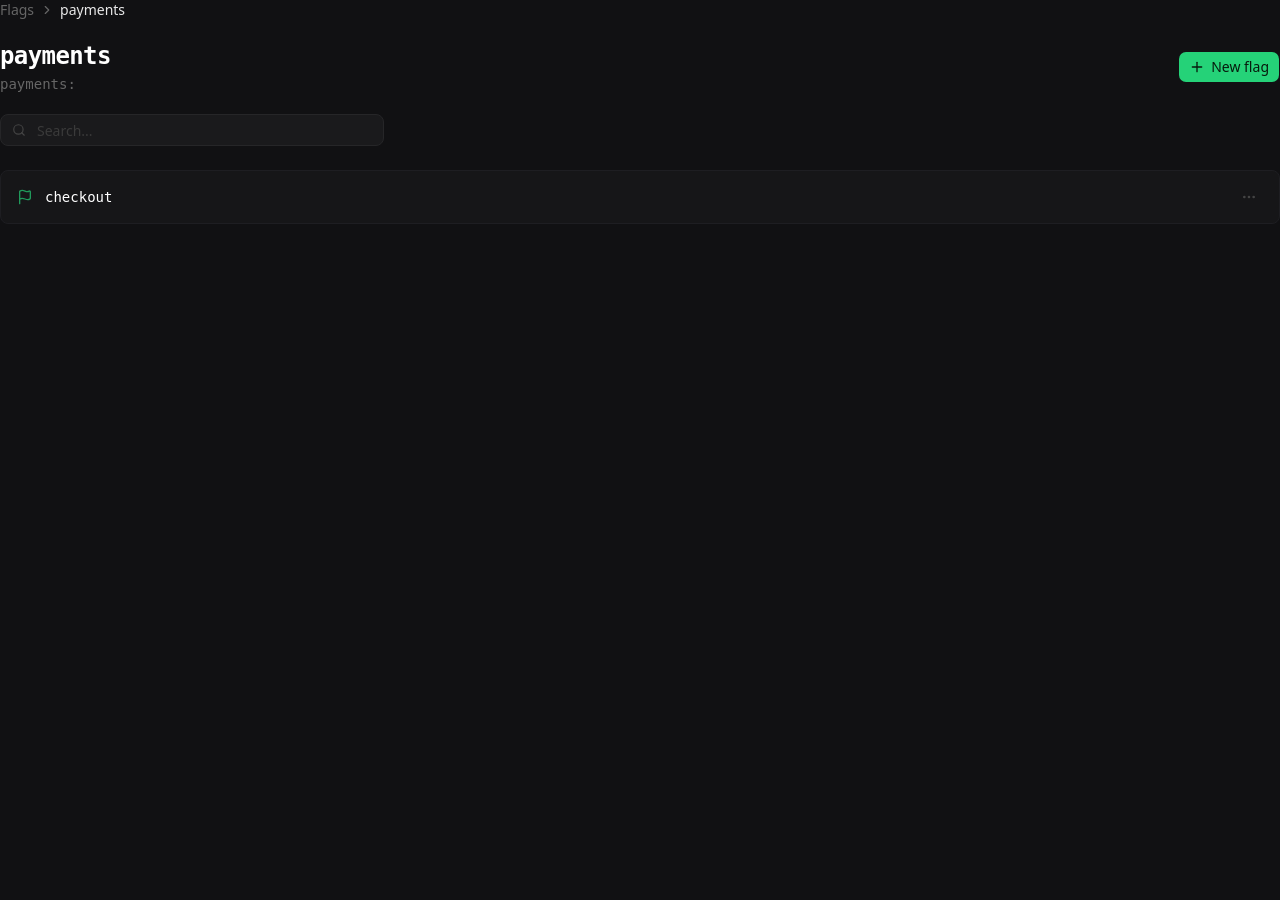
Test: flags page delete flow › shows the empty-folder state after deleting the last flag under a prefix
Step 1. Click the button named "Actions for checkout" → [1249, 197], box [1235,183,1263,211]
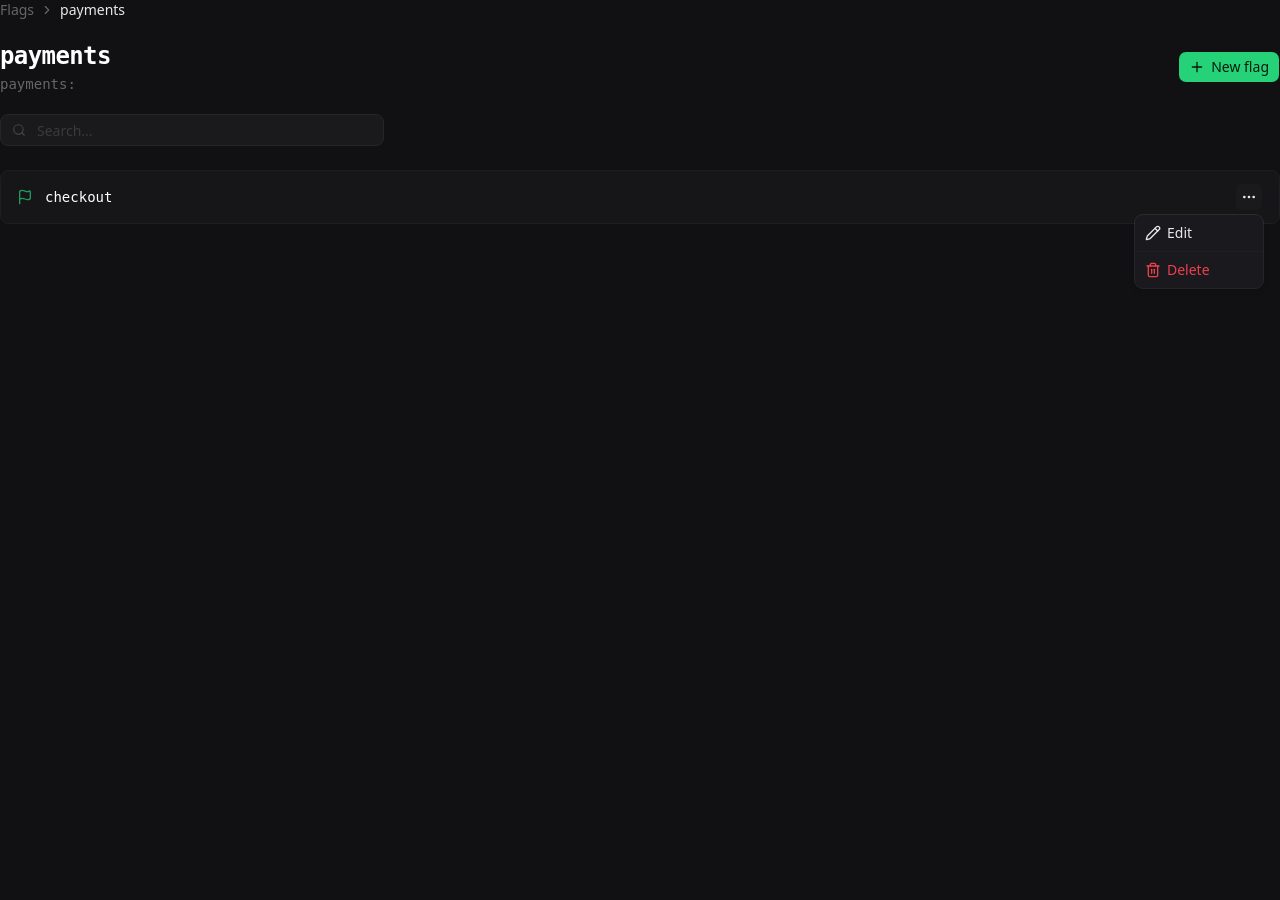
Step 2. Click the menu item "Delete" → [1177, 270], box [1145,260,1210,279]
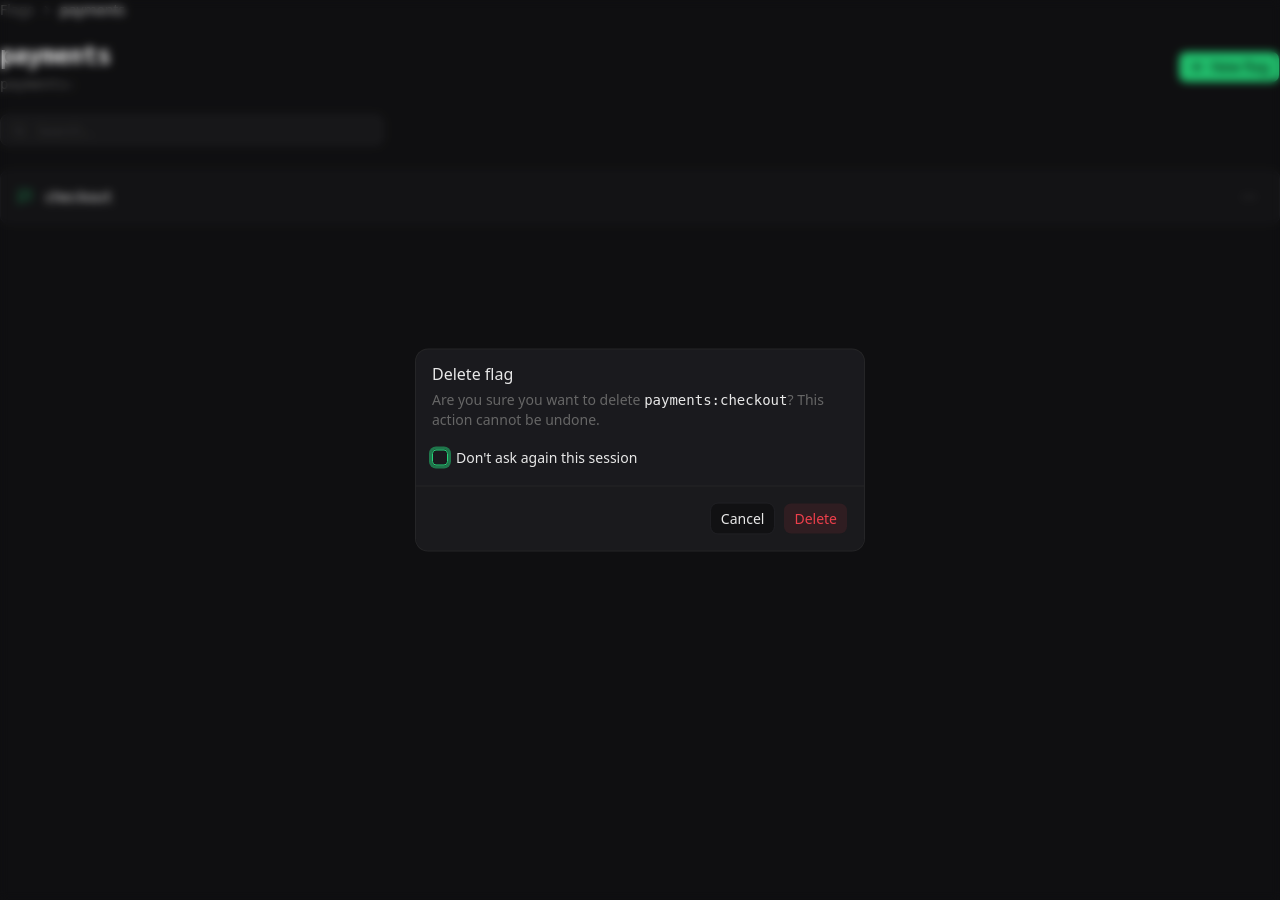
Step 3. Click the button with aria-label "Confirm deletion of payments:checkout" → [816, 518], box [783,502,848,534]
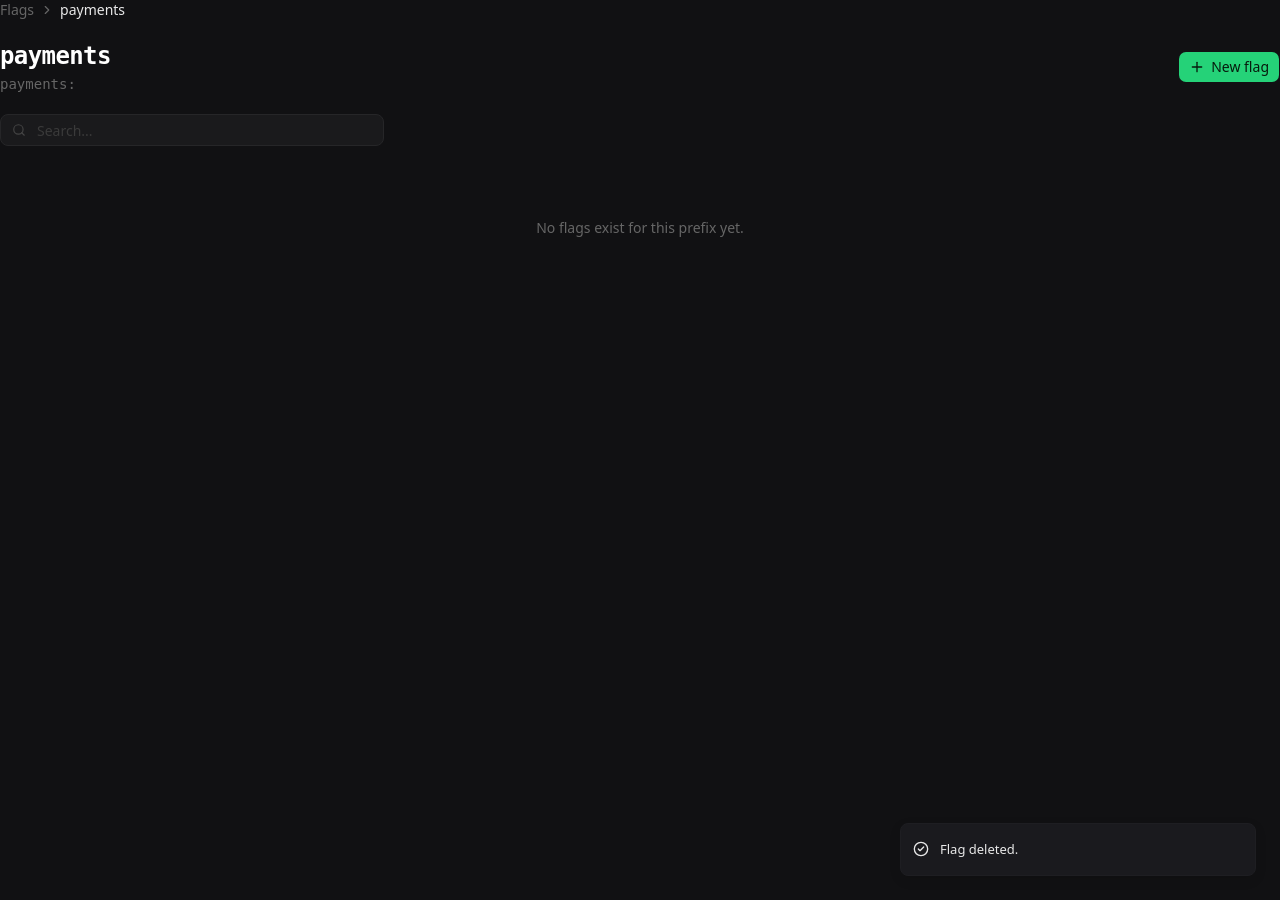
Result: the text "No flags exist for this prefix yet." is shown at [536,218,744,237]
Result: the text "Flag deleted." is shown at [940,840,1018,859]
